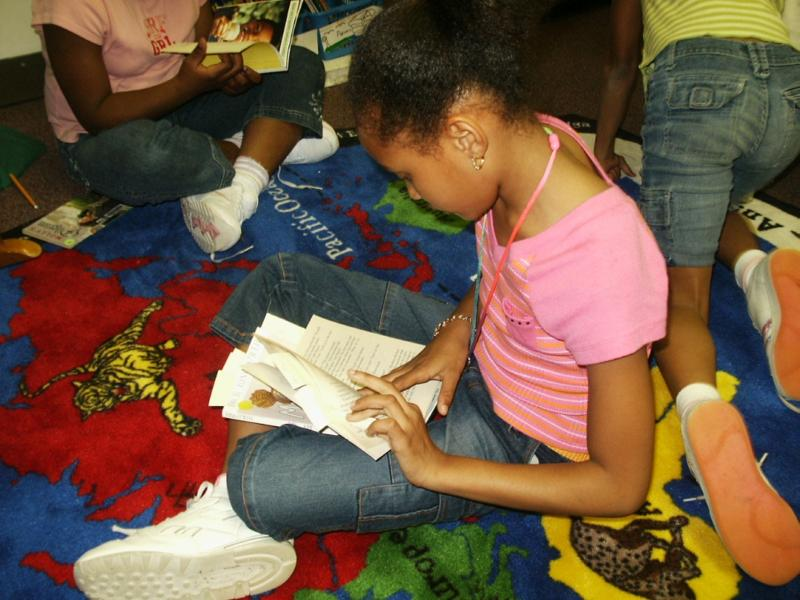person: (73, 5, 668, 600)
